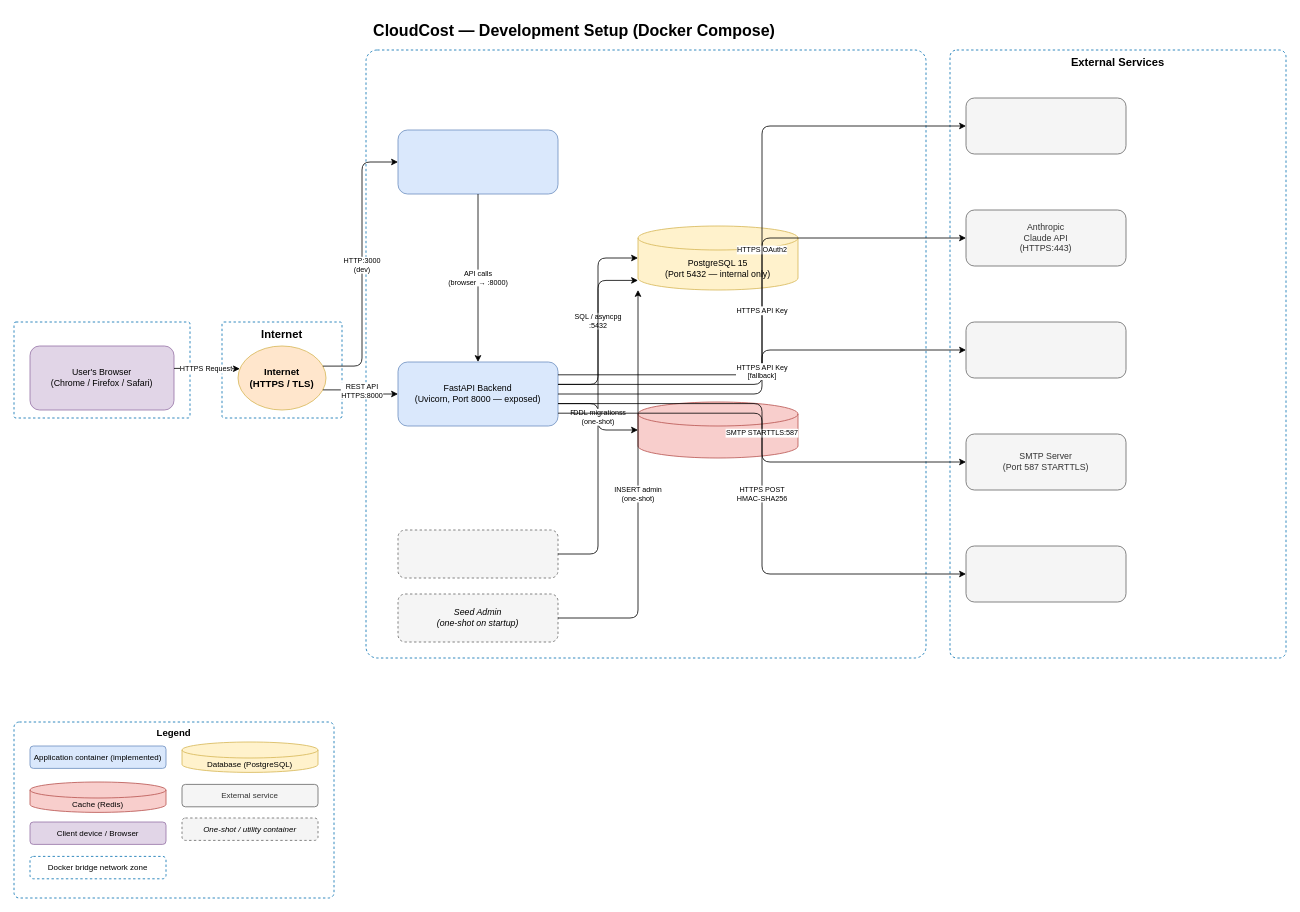
This 1300x912 diagram has some shape labels left out. Each missing label, with the box of its shape:
Alembic Migrate (one-shot on startup): (397, 529, 558, 578)
Azure Cost Management API (HTTPS:443): (965, 97, 1126, 154)
Azure OpenAI API (HTTPS:443) [fallback]: (965, 321, 1126, 378)
Client: (13, 321, 190, 418)
Docker Bridge Network: app_network: (365, 49, 926, 658)
React Frontend (Vite, Port 3000 — exposed): (397, 129, 558, 194)
Redis 7 (Port 6379 — internal only): (637, 401, 798, 458)
Webhook Target URLs (HTTPS:443): (965, 545, 1126, 602)
